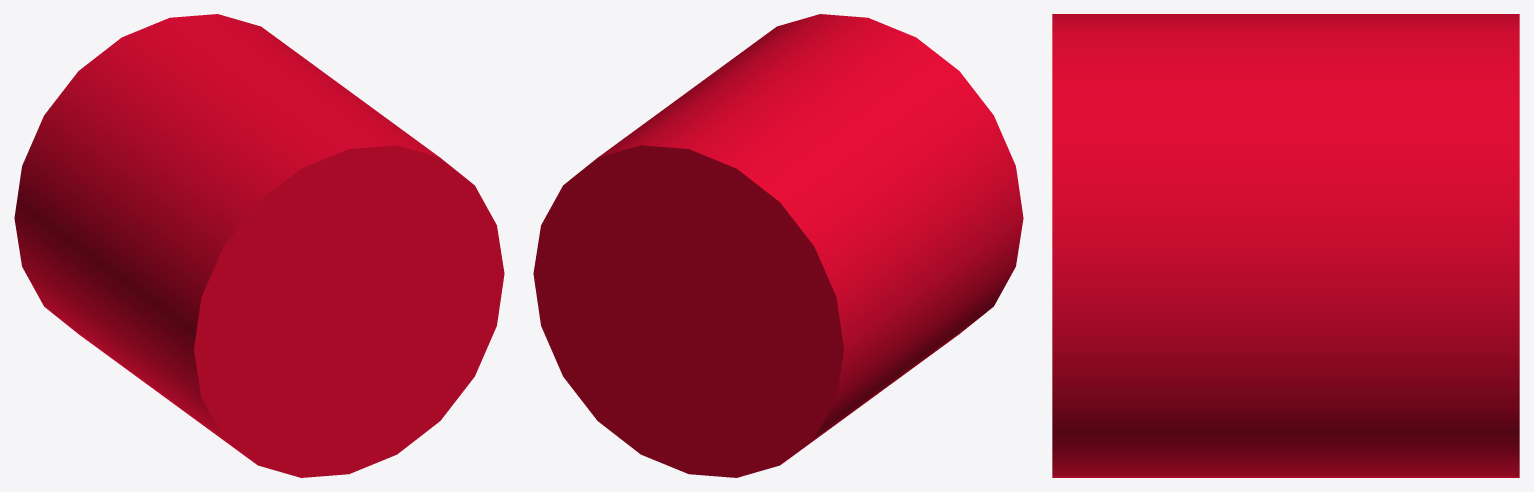
The model's file is Ranger_TestLevel_Switch.fbx.
3 renders of one model, left to right at view 1: azimuth 30°, elevation 25°; view 2: azimuth 150°, elevation 25°; view 3: azimuth 270°, elevation 25°, orthographic. The views are drawn at different scales.
Parts seen in each view (by area): view 1: pCylinder6; view 2: pCylinder6; view 3: pCylinder6.
Boxes of the visible parts, x1,y1,x2,y2 form: pCylinder6: (14, 14, 504, 477); pCylinder6: (533, 14, 1023, 477); pCylinder6: (1052, 14, 1519, 477).
Bounding box in the file's own units: 1.42 × 1.42 × 1.42.
